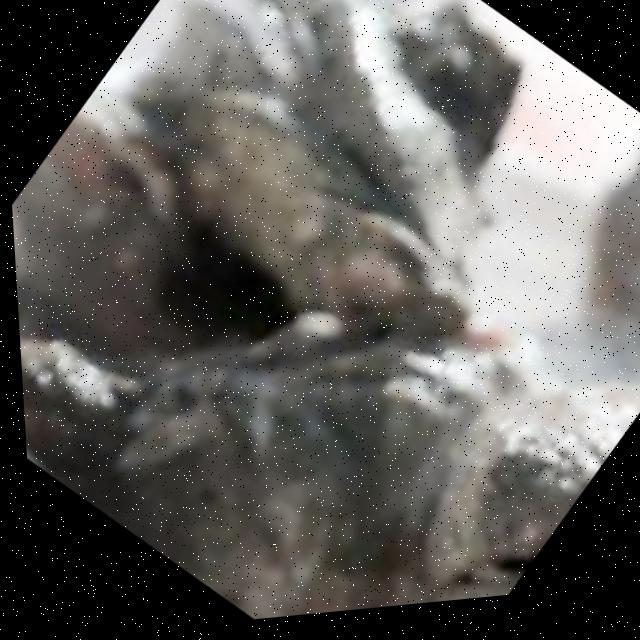Oyster-Closed: (428, 377, 640, 602)
Oyster-Indeterminate: (118, 346, 499, 619), (170, 101, 466, 358), (14, 100, 233, 364), (393, 0, 520, 168), (20, 335, 126, 474), (587, 164, 640, 380)
Oyster-Open: (142, 0, 493, 280)
